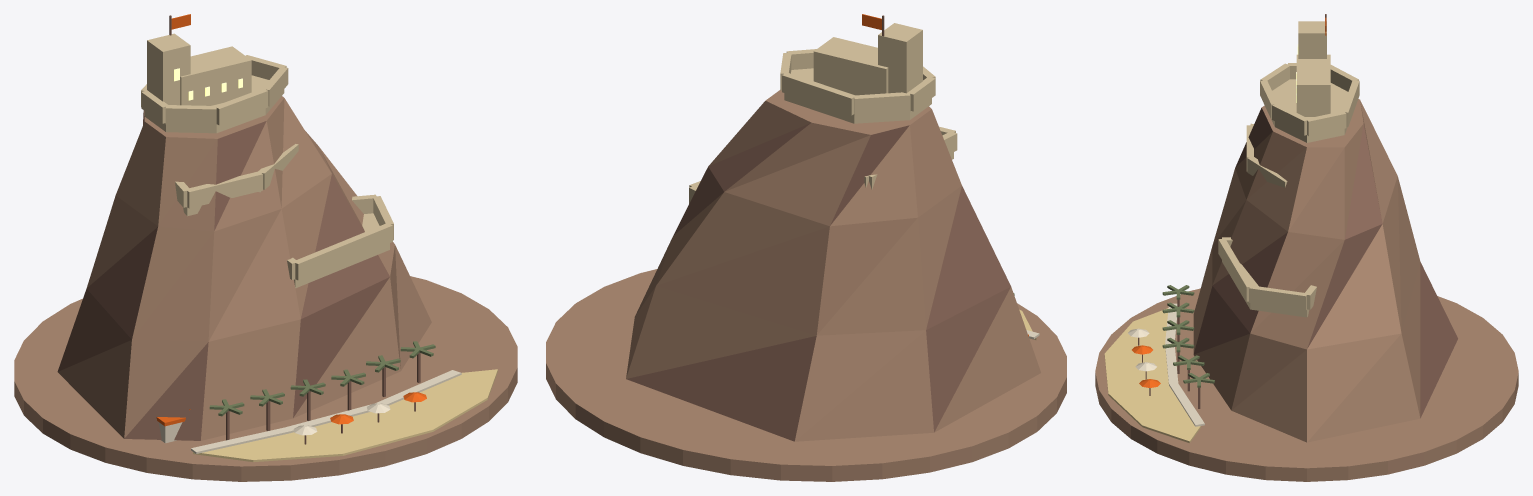
Rendered from santa-barbara.glb.
The picture shows the model from 3 angles, left to right: view 1: azimuth 30°, elevation 25°; view 2: azimuth 150°, elevation 25°; view 3: azimuth 270°, elevation 25°; orthographic projection. The views are drawn at different scales.
Parts seen in each view (by area): view 1: Santa_Barbara_Postiguet; view 2: Santa_Barbara_Postiguet; view 3: Santa_Barbara_Postiguet.
Part boxes in pixels (x1,y1,x2,y2): Santa_Barbara_Postiguet: [14, 14, 517, 481]; Santa_Barbara_Postiguet: [546, 14, 1066, 481]; Santa_Barbara_Postiguet: [1095, 14, 1518, 481].
Size of the model in its own units: 24.2 by 19.5 by 22.4.
